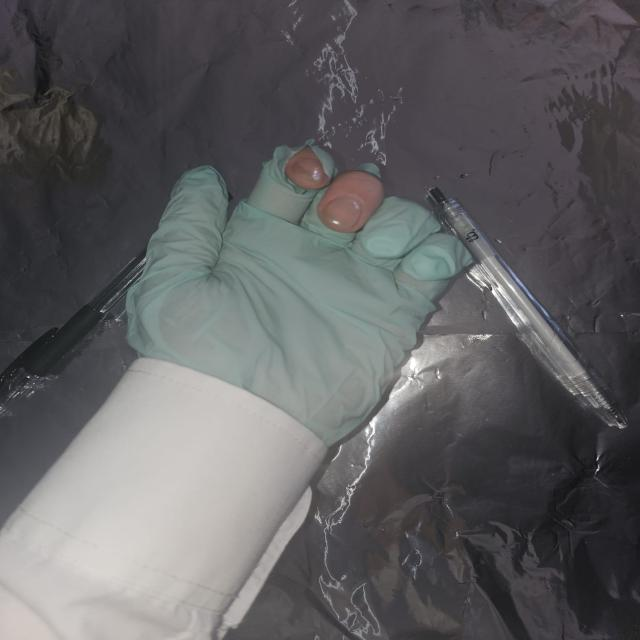gloves_damaged: (128, 139, 476, 450)
